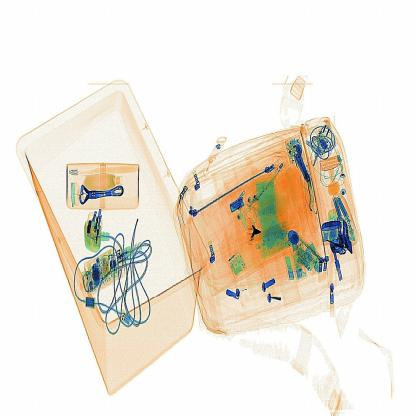gun: (244, 212, 264, 249)
